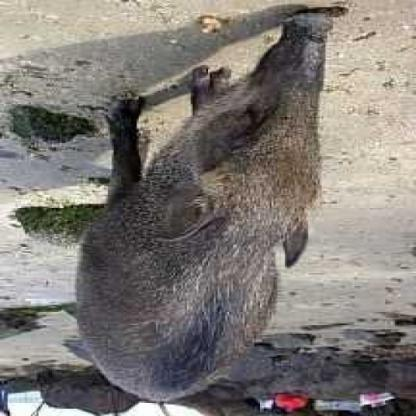boar: (56, 14, 358, 391)
